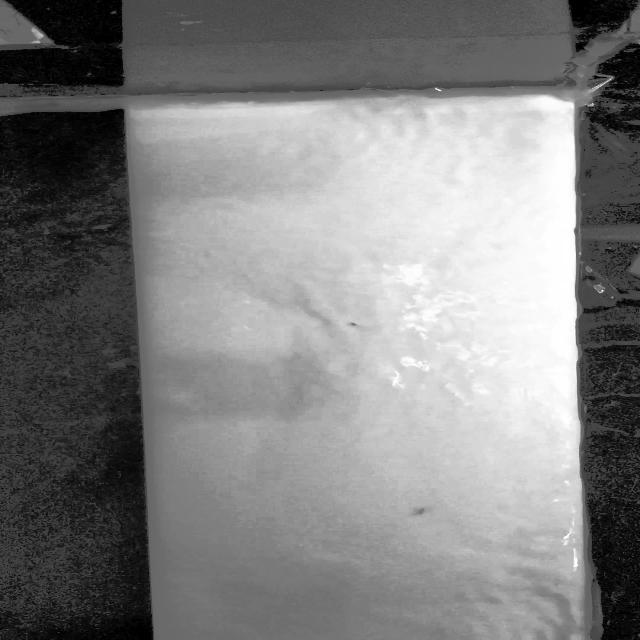shrimp: (412, 504, 432, 516)
